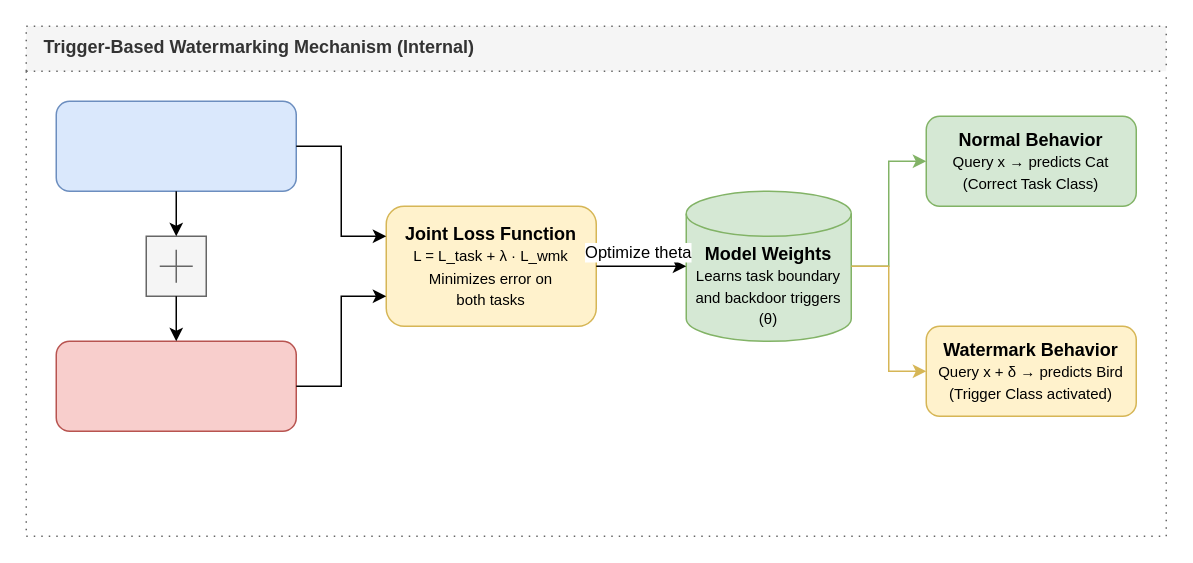
Image size: 1193x563. Some labels were removed from this diagram. Each missing label, with the box of its shape:
Clean Sample Input: x (e.g. image) Label: y (e.g. Cat): (55, 100, 296, 191)
Trigger Overlay Adds pattern δ: (145, 235, 206, 296)
Watermarked Sample Input: x + δ Target Label: y_target (e.g. Bird): (55, 340, 296, 431)
